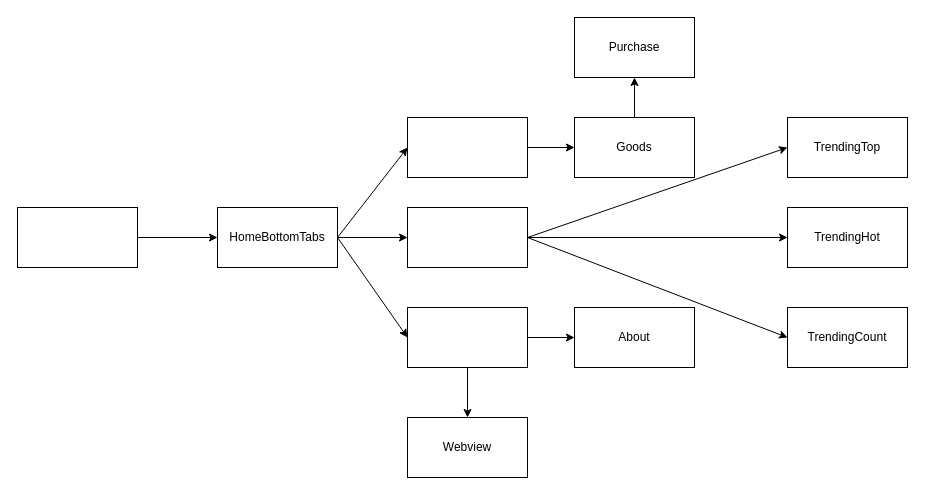
This 925x495 diagram has some shape labels left out. The shapes that lost their labels are listed below. From the top down, each one's box as (x1, y1, x2, y2) in pixels, then its label:
(406, 116, 528, 178): Home
(16, 206, 138, 268): Login
(406, 206, 528, 268): TrendingTopTabs
(406, 306, 528, 368): Account
